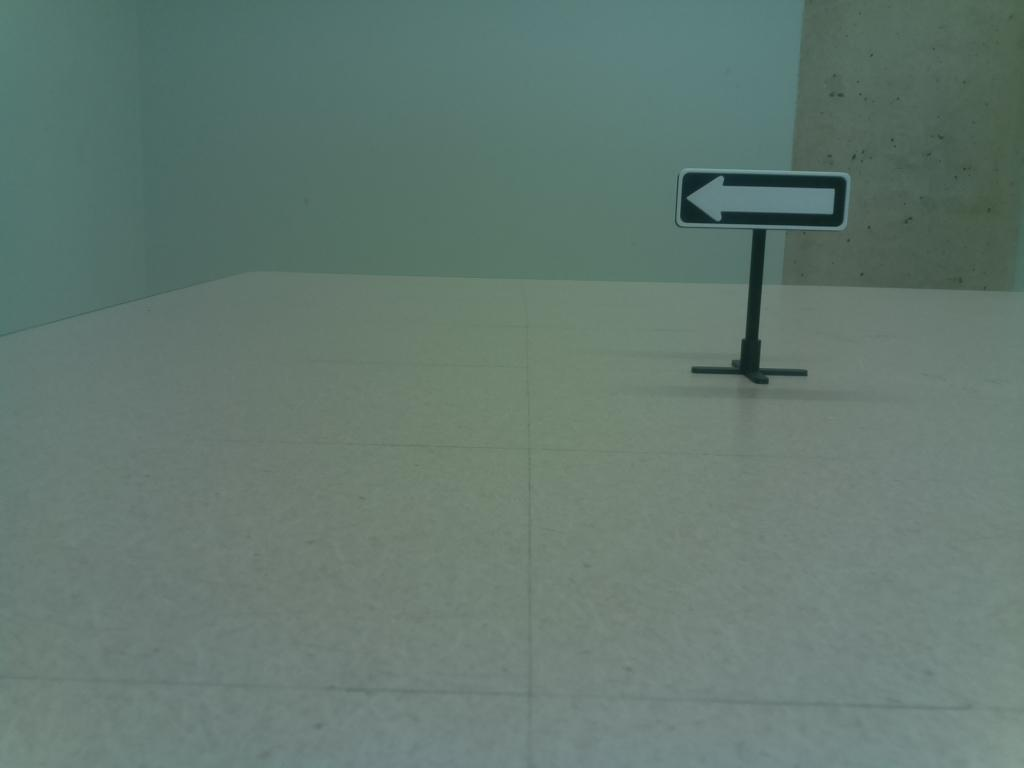sign_oneway_left: (671, 162, 858, 236)
